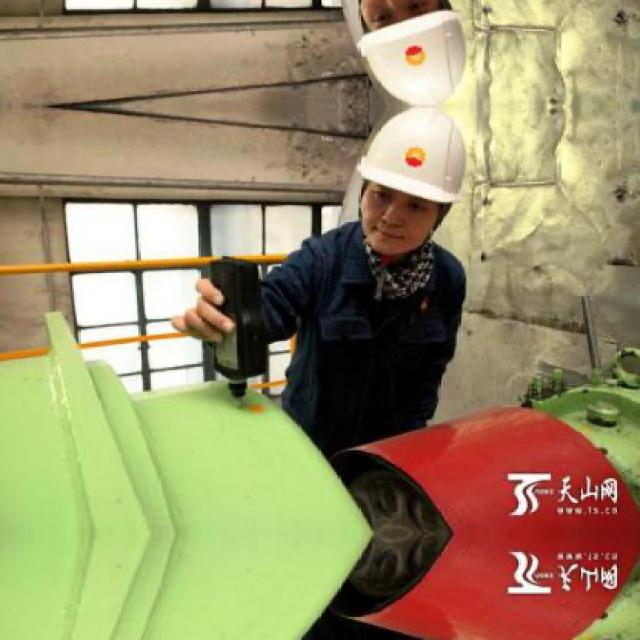helmet: (343, 108, 472, 264), (343, 0, 474, 106)
